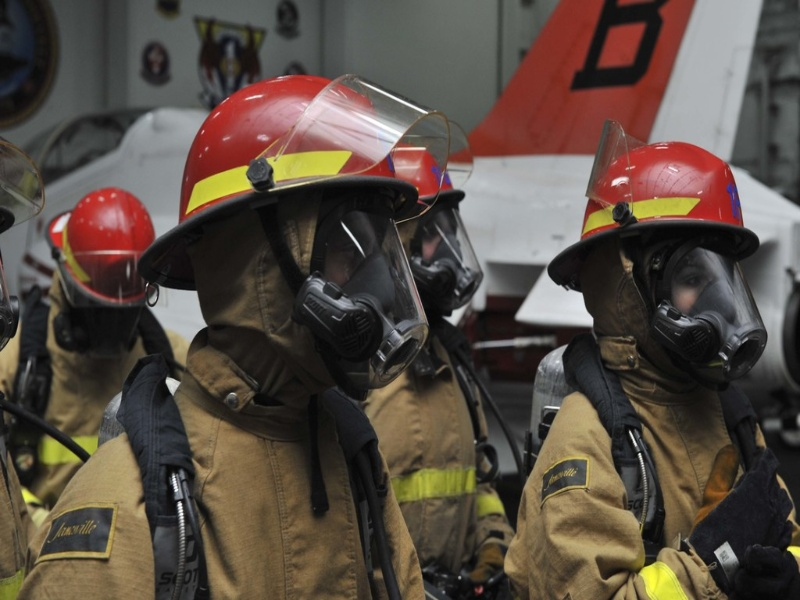Baret: (180, 73, 464, 213), (584, 141, 745, 234), (48, 188, 160, 304)
